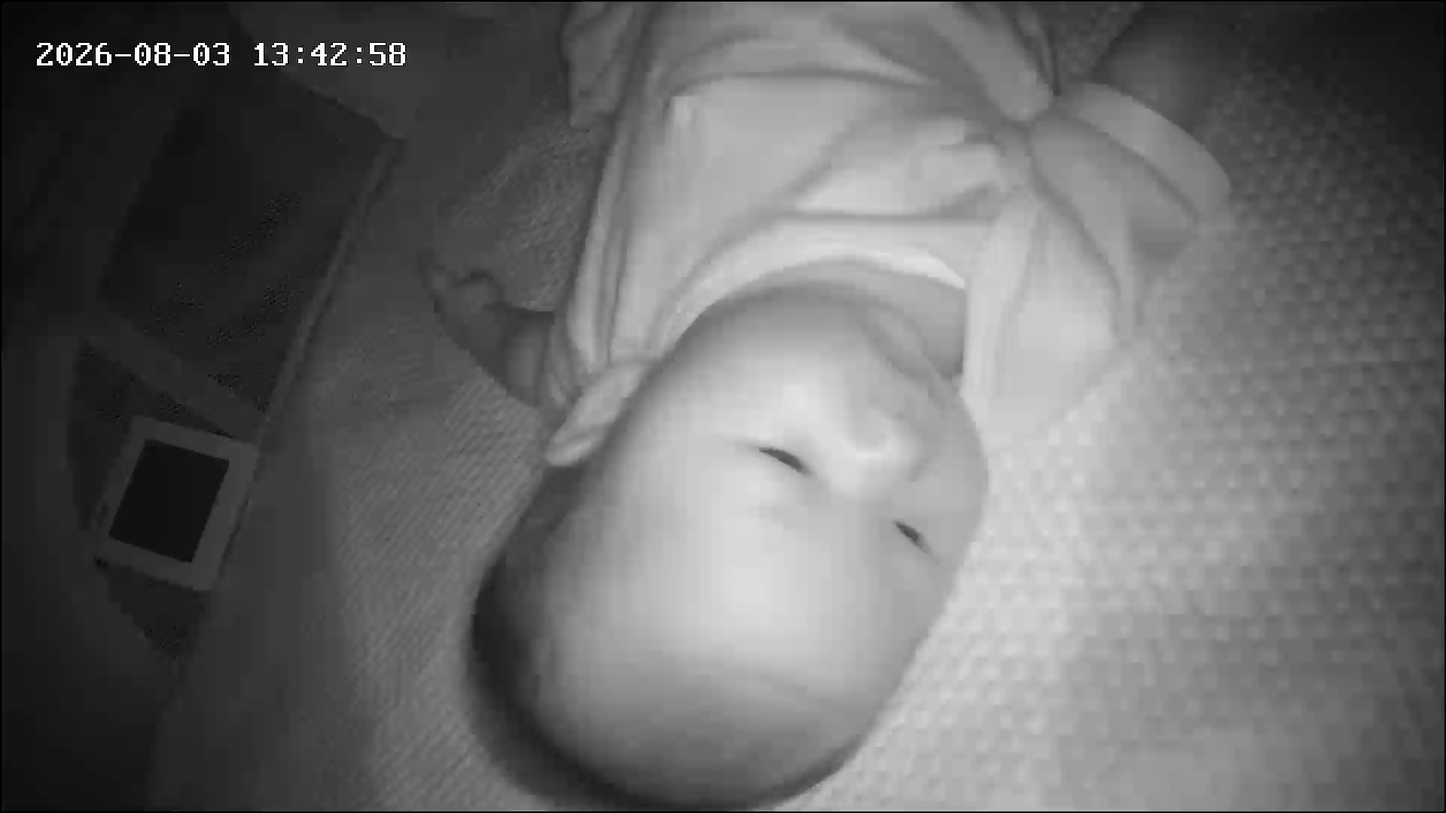baby: (448, 4, 1250, 807)
baby_face: (474, 278, 1010, 808)
